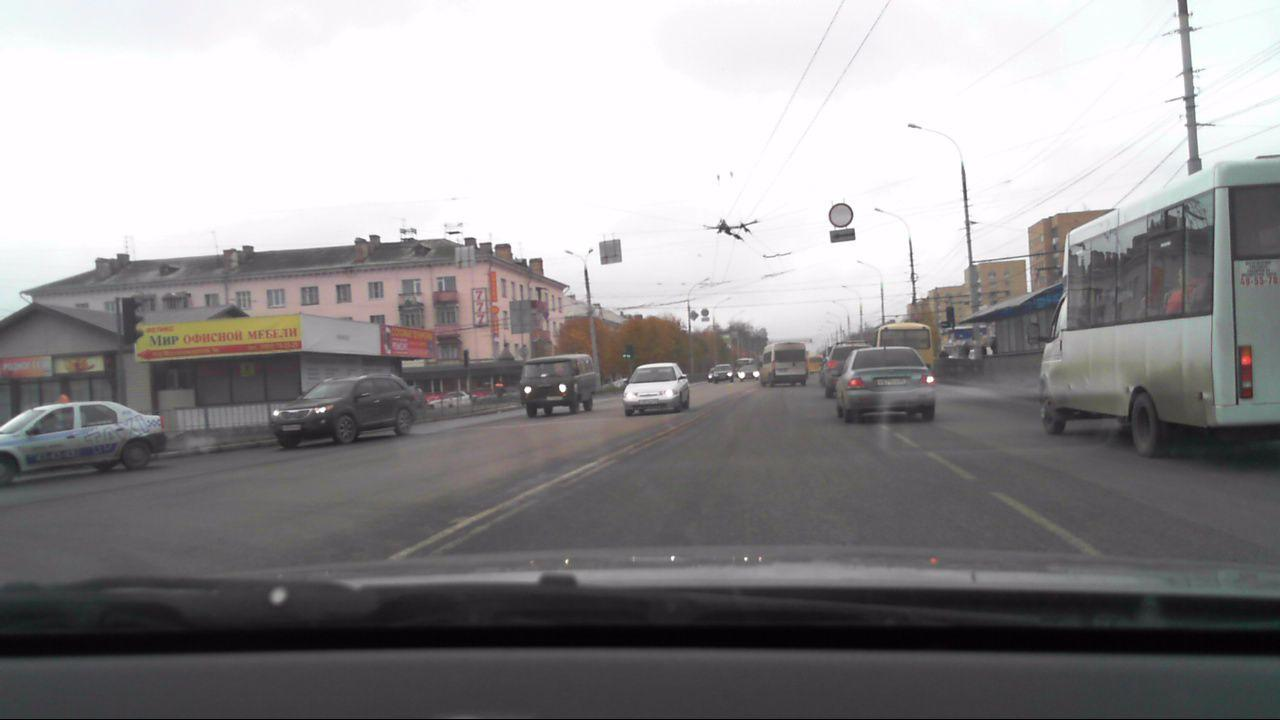3_2: (829, 201, 855, 227)
8_3_2: (829, 228, 858, 242)
